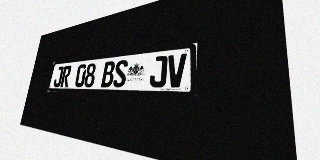0: (74, 64, 87, 87)
8: (83, 63, 97, 87)
B: (101, 61, 116, 87)
J: (149, 55, 168, 87), (53, 66, 64, 87)
R: (60, 65, 72, 87)
S: (112, 59, 128, 87)
V: (166, 53, 187, 87)
